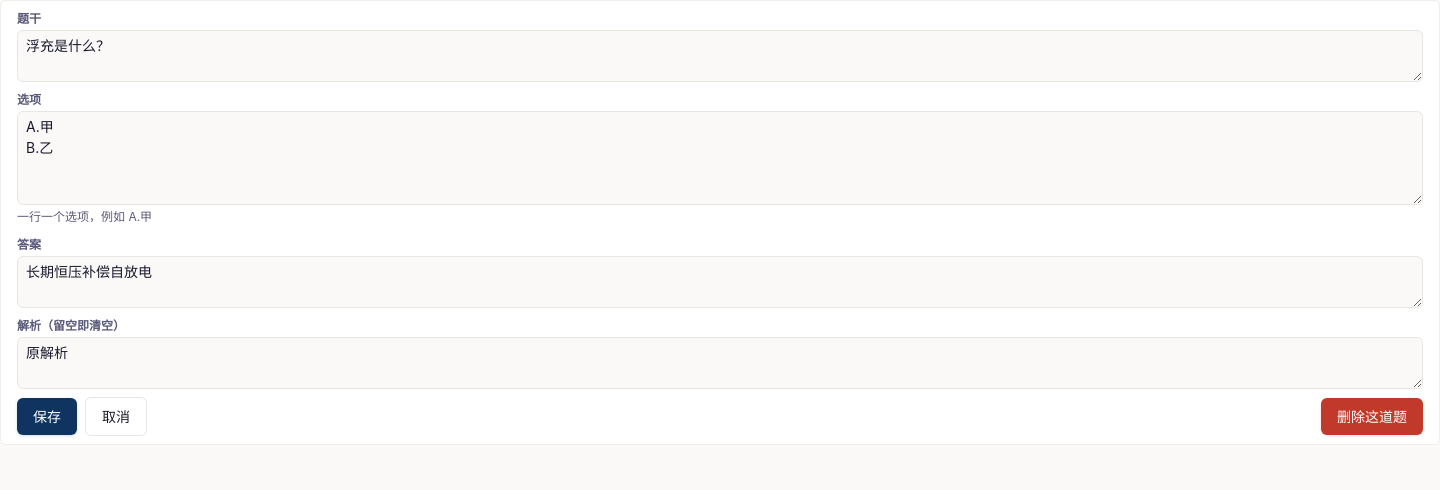
Scenario: 保存 › 保存失败时把原因显示出来（而不是静默什么都不发生）
The image size is (1440, 490).
Click the button "保存" at (47, 416), box top-left (17, 398), bottom-right (77, 435)
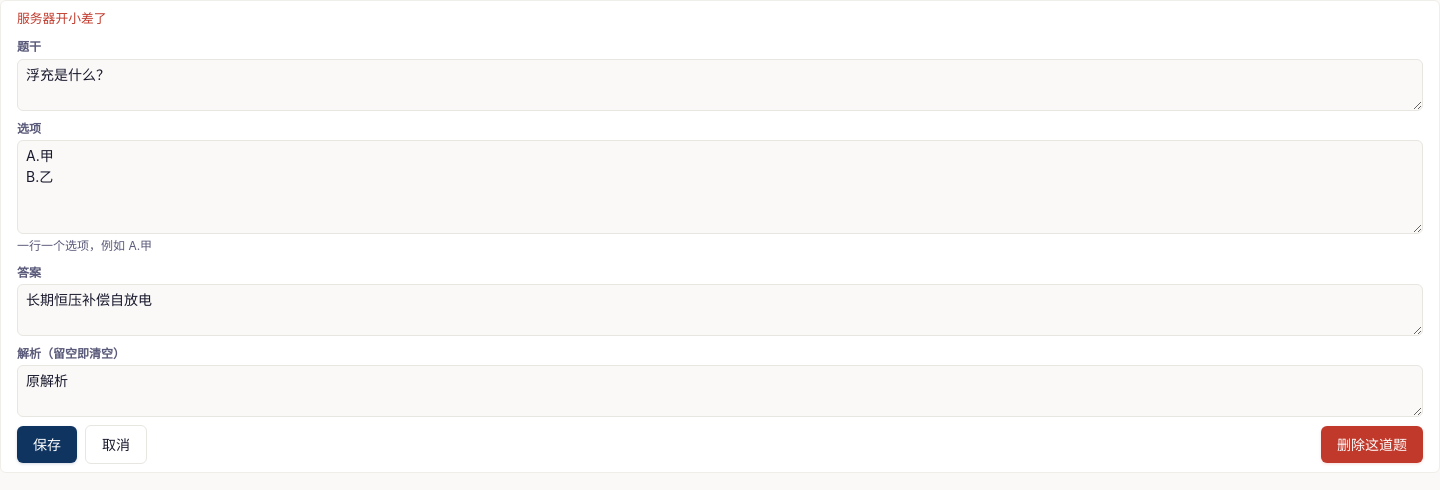
Expected: the message reads "服务器开小差了", top-left (17, 11), bottom-right (107, 26)
